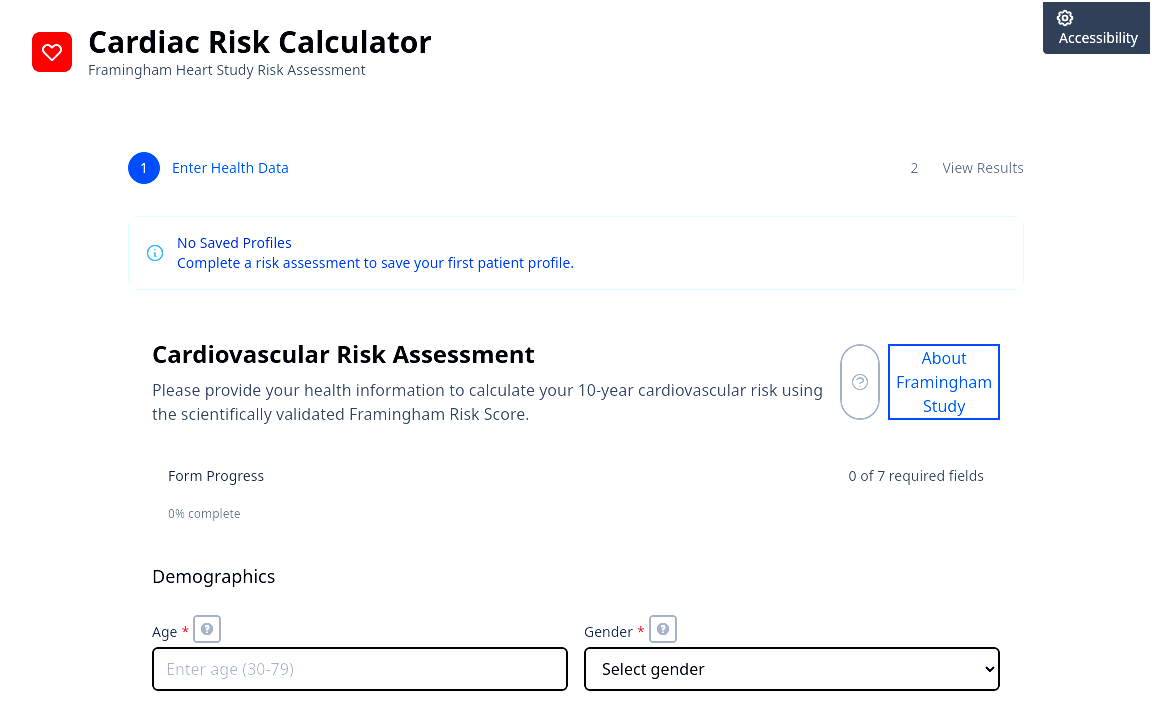
Test case: Accessibility Tests › should have proper modal accessibility
Expected: the heading "Cardiac Risk Calculator" is shown, [88,24,432,60]
Click the button named "help": (860, 382) [840,344,880,420]
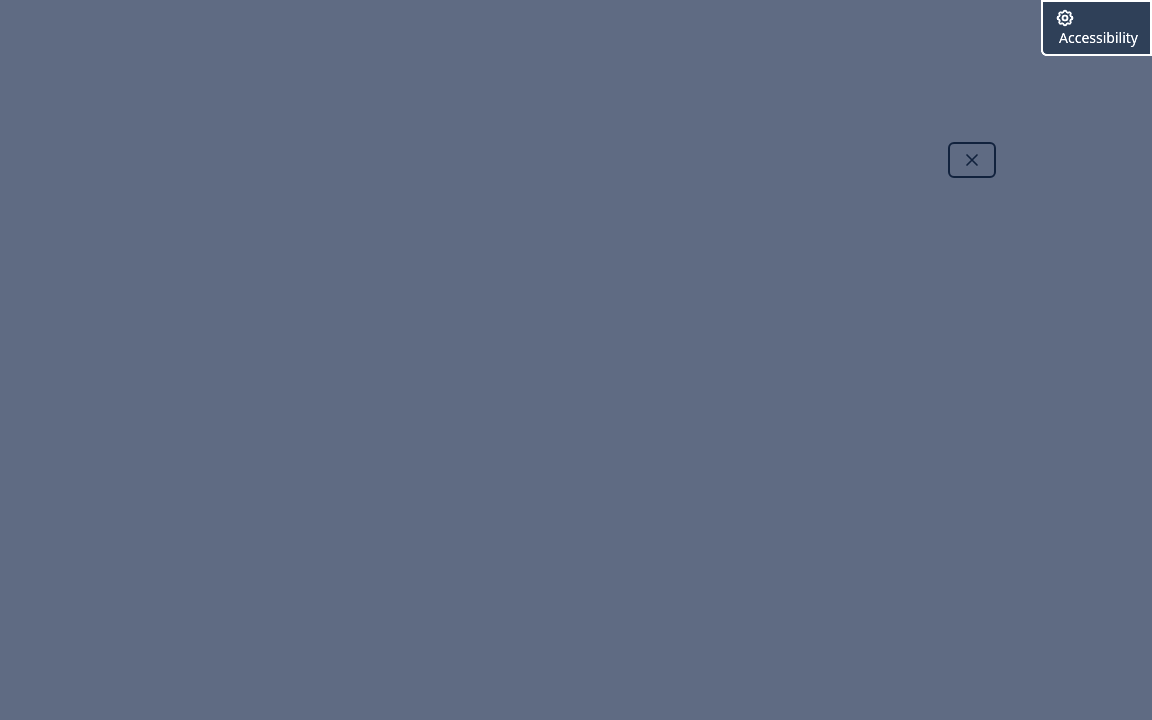
Now the dialog is shown
Now the button named "close" is shown, box [948,142,996,178]
